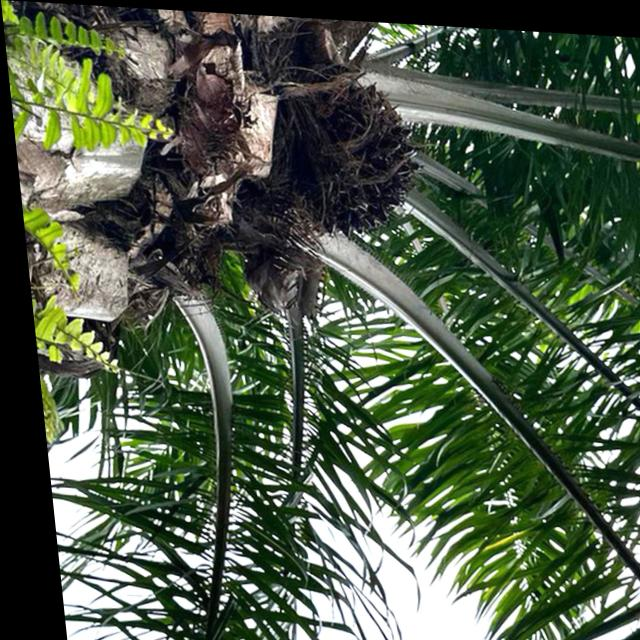ripe: (285, 68, 423, 231)
